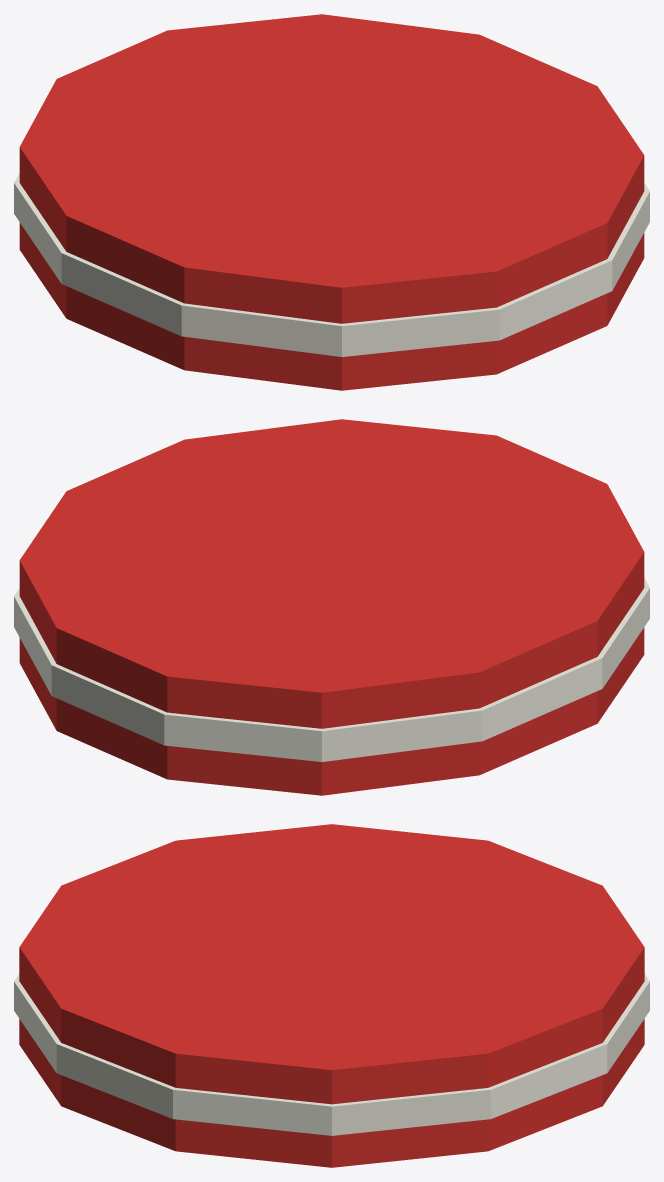
File: cosmetic_hat_sweatband.glb
3 renders of one model, top to bottom at view 1: azimuth 30°, elevation 25°; view 2: azimuth 150°, elevation 25°; view 3: azimuth 270°, elevation 25°, orthographic. The views are drawn at different scales.
Visible parts, largest first — view 1: cosmetic_hat_sweatband; view 2: cosmetic_hat_sweatband; view 3: cosmetic_hat_sweatband.
Boxes of the visible parts, bbox=[...] form: cosmetic_hat_sweatband: bbox=[14, 14, 649, 390]; cosmetic_hat_sweatband: bbox=[14, 419, 649, 795]; cosmetic_hat_sweatband: bbox=[14, 824, 649, 1167].
Bounding box in the file's own units: 0.275 × 0.05 × 0.295.
1 material, 1 textured.
